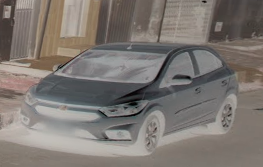car: (21, 41, 239, 155)
